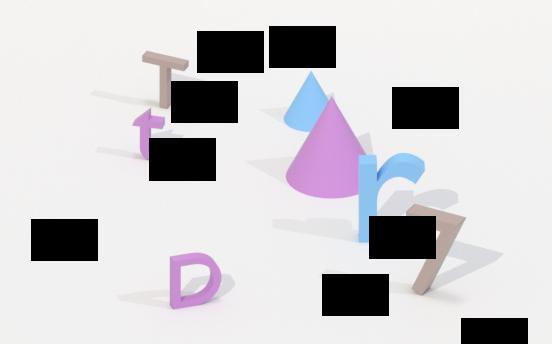7: (401, 197, 468, 298)
R: (355, 148, 428, 248)
d: (166, 248, 224, 312)
non: (284, 90, 377, 205), (282, 68, 338, 135)
t: (131, 104, 170, 165)
t-hoa: (140, 45, 194, 112)
